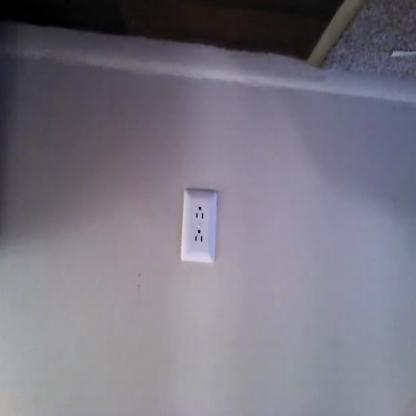OUTLET: (180, 188, 219, 264)
